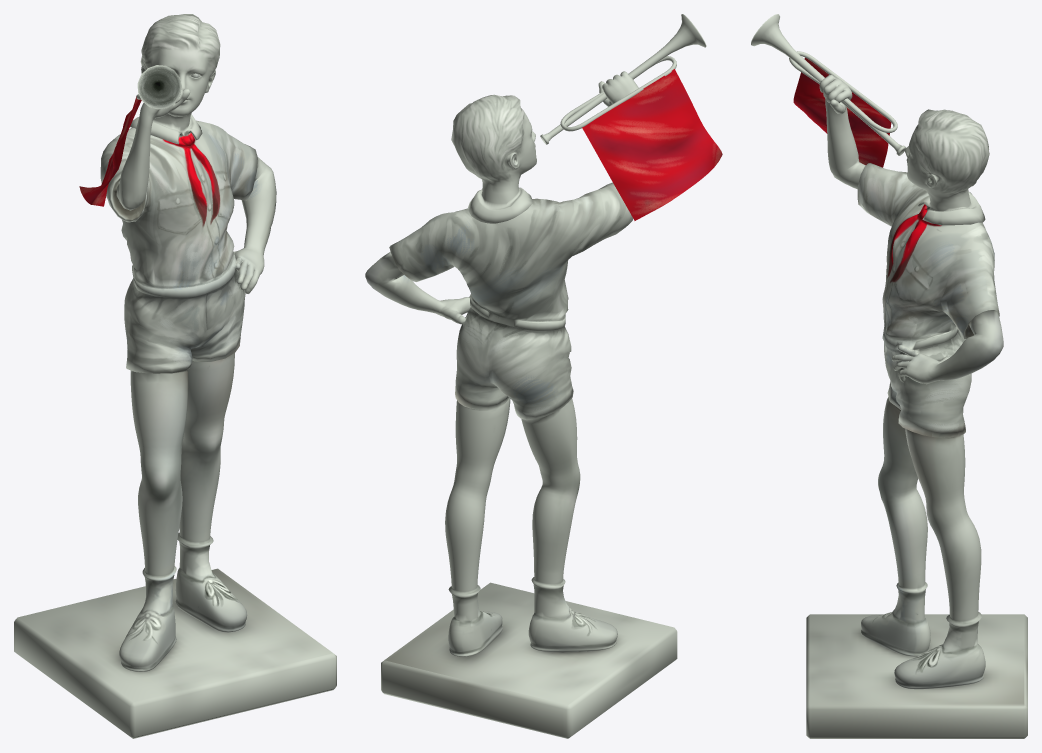
Rendered from pioneer.glb.
The picture shows the model from 3 angles, left to right: view 1: azimuth 30°, elevation 25°; view 2: azimuth 150°, elevation 25°; view 3: azimuth 270°, elevation 25°; orthographic projection. The views are drawn at different scales.
Parts seen in each view (by area): view 1: Pioneer, Cube, trombone; view 2: Pioneer, Cube, trombone; view 3: Pioneer, Cube, trombone.
Part boxes in pixels (bbox=[...]): Pioneer: bbox=[100, 14, 276, 671]; Cube: bbox=[14, 568, 336, 738]; trombone: bbox=[79, 65, 181, 206]; Pioneer: bbox=[365, 71, 638, 656]; Cube: bbox=[381, 582, 677, 738]; trombone: bbox=[540, 14, 722, 220]; Pioneer: bbox=[819, 75, 1003, 689]; Cube: bbox=[806, 614, 1027, 738]; trombone: bbox=[751, 14, 906, 167].
Size of the model in its own units: 0.7549 by 1.71 by 0.6739.
Materials: 1 (1 with a texture image).
